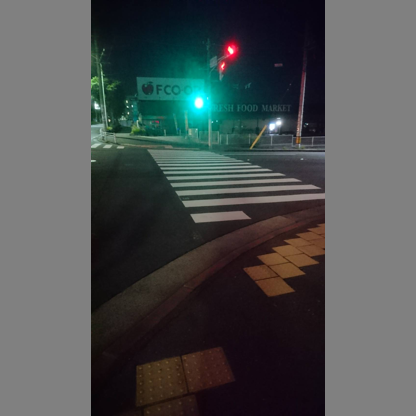brailleblock: (242, 221, 324, 304)
crosswalk: (151, 153, 323, 225)
